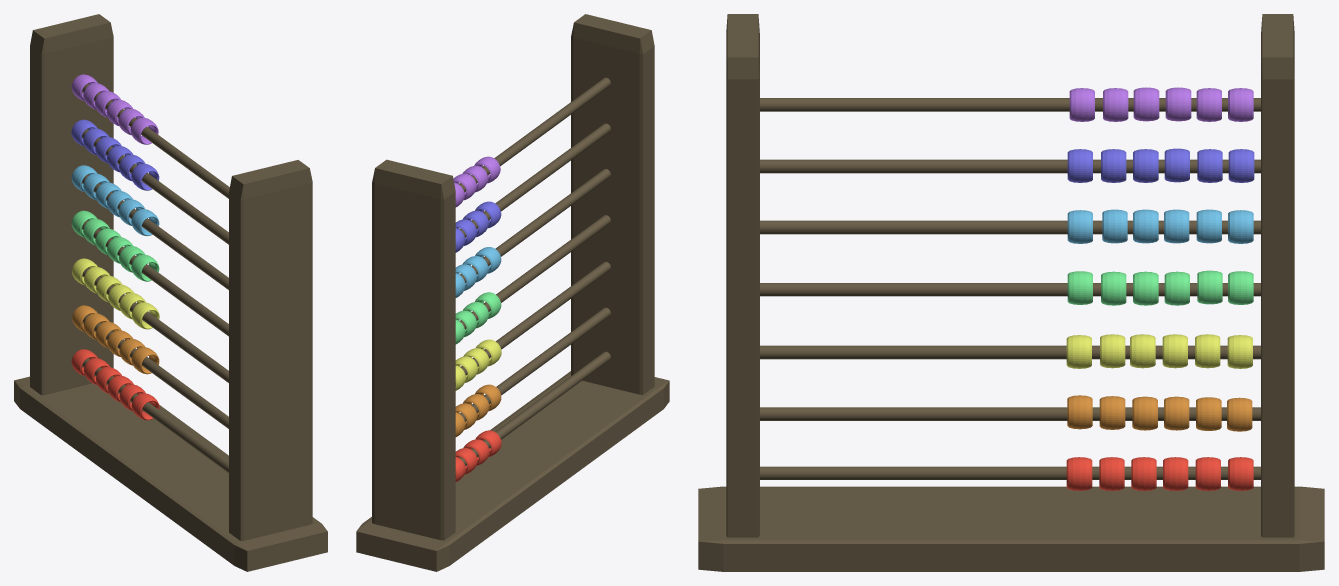
The model's file is abacus.fbx.
The picture shows the model from 3 angles, left to right: view 1: azimuth 30°, elevation 25°; view 2: azimuth 150°, elevation 25°; view 3: azimuth 270°, elevation 25°; orthographic projection. The views are drawn at different scales.
Visible parts, largest first — view 1: Cube.001, Cube.002, Cube, Cylinder.003, Cylinder.005, Cylinder.006, Cylinder, Cylinder.002, Cylinder.004, Cylinder.001, Torus.016, Torus.021 (+5 smaller); view 2: Cube.002, Cube.001, Cube, Cylinder.006, Cylinder.001, Cylinder.005, Cylinder, Cylinder.003, Cylinder.004, Cylinder.002; view 3: Cube, Cube.001, Cube.002, Cylinder.005, Cylinder.004, Cylinder.002, Cylinder, Cylinder.001, Cylinder.003, Cylinder.006, Torus.009, Torus.014 (+40 smaller).
Part boxes in pixels (<box>): Cube.001: <box>229,160,312,540</box>; Cube.002: <box>30,14,113,395</box>; Cube: <box>14,376,327,571</box>; Cylinder.003: <box>82,220,228,336</box>; Cylinder.005: <box>82,129,228,244</box>; Cylinder.006: <box>82,83,229,198</box>; Cylinder: <box>82,358,228,472</box>; Cylinder.002: <box>82,268,228,382</box>; Cylinder.004: <box>82,174,228,289</box>; Cylinder.001: <box>82,314,228,428</box>; Torus.016: <box>131,393,159,420</box>; Torus.021: <box>131,302,159,329</box>; Cube.002: <box>372,159,455,540</box>; Cube.001: <box>571,14,654,394</box>; Cube: <box>356,371,669,571</box>; Cylinder.006: <box>459,77,610,192</box>; Cylinder.001: <box>459,307,610,421</box>; Cylinder.005: <box>459,123,610,237</box>; Cylinder: <box>459,351,610,465</box>; Cylinder.003: <box>459,215,610,329</box>; Cylinder.004: <box>460,169,610,282</box>; Cylinder.002: <box>460,261,610,375</box>; Cube: <box>698,486,1324,571</box>; Cube.001: <box>726,14,759,537</box>; Cube.002: <box>1261,14,1294,537</box>; Cylinder.005: <box>760,159,1260,173</box>; Cylinder.004: <box>760,220,1260,234</box>; Cylinder.002: <box>760,345,1260,359</box>; Cylinder: <box>760,466,1260,479</box>; Cylinder.001: <box>760,407,1260,420</box>; Cylinder.003: <box>760,283,1260,296</box>; Cylinder.006: <box>760,98,1260,111</box>; Torus.009: <box>1228,149,1254,182</box>; Torus.014: <box>1099,396,1125,429</box>.
Bounding box in the file's own units: 200 × 827 × 923.
